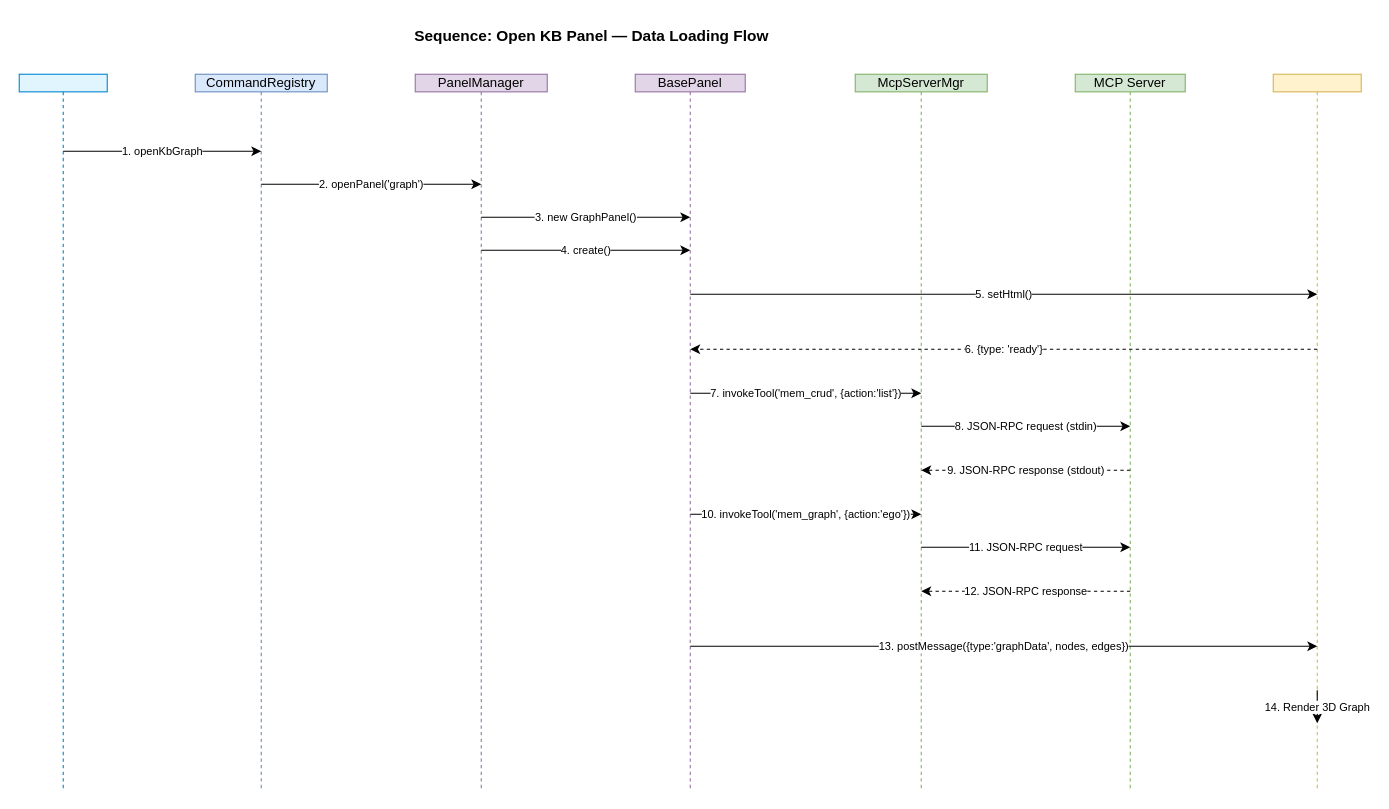
Image size: 1389x809. Some labels were removed from this diagram. The shapes that lost their labels are listed below. From the top down, each one's box as (x1, y1, x2, y2) in pixels, then its label:
(18, 73, 107, 789): Developer
(1272, 73, 1361, 789): Webview
